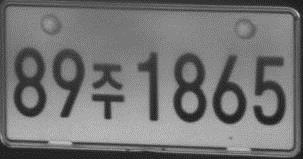1: (136, 50, 159, 123)
5: (251, 54, 286, 127)
6: (210, 53, 247, 125)
8: (172, 52, 207, 124), (13, 46, 46, 118)
9: (51, 47, 85, 118)
주: (90, 62, 125, 120)
